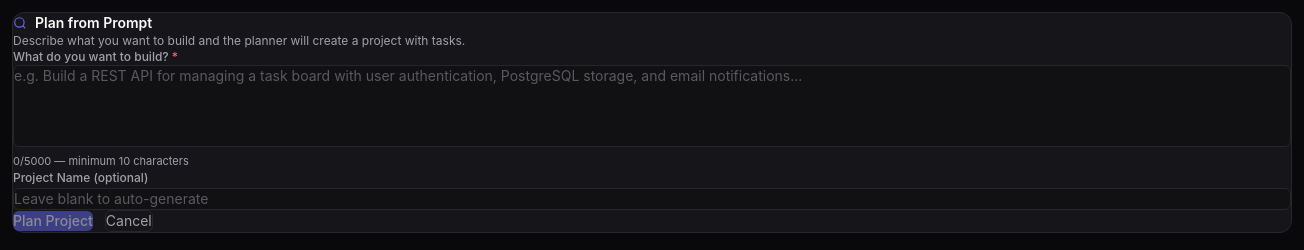
PromptIntakeForm (FM-013) › shows the 'Planning…' label while the submission is pending
Replace the text in the text box labelled "What do you want to build? *" with "Build a task board API" at {"x": 652, "y": 106}, box [13,65,1291,147]
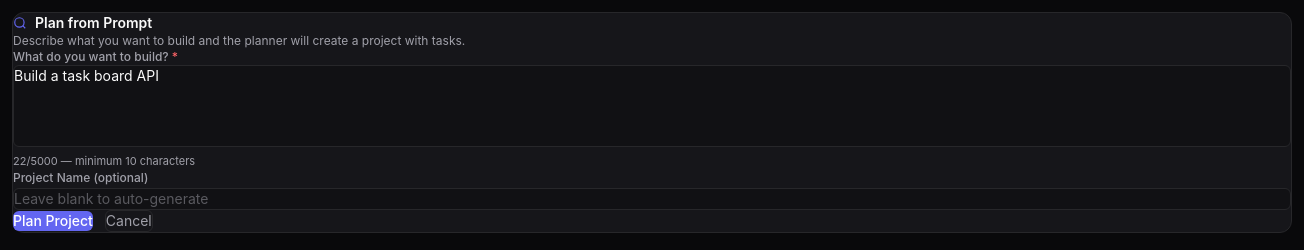
Type "Tasky" into the field labelled "Project Name (optional)" at {"x": 652, "y": 198}, box [13,188,1291,210]
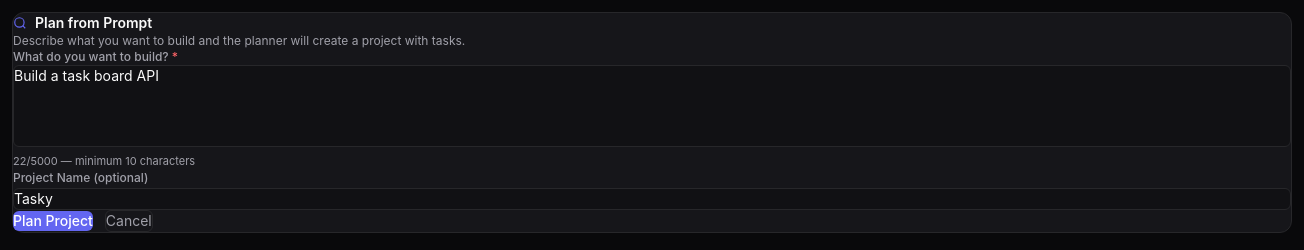
Click the button "Plan Project" at {"x": 53, "y": 220}, box [13,210,93,230]
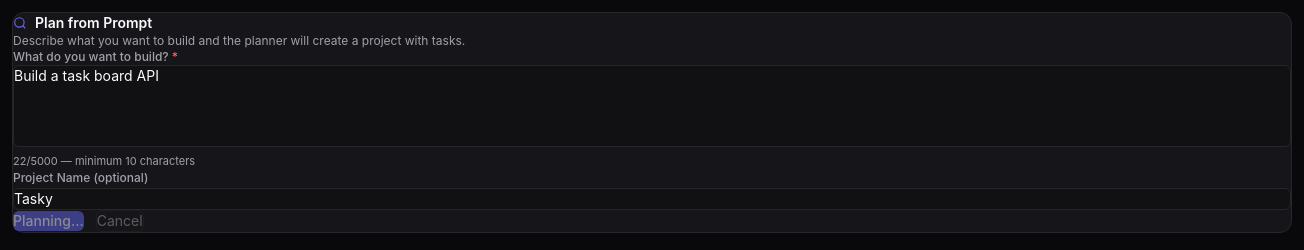
Now the button "Planning…" is disabled, box [13,210,84,230]
Now the button "Cancel" is disabled, box [96,210,144,232]
